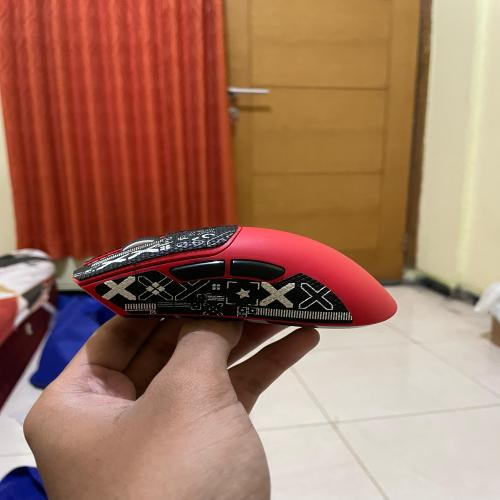Mouse: (63, 208, 411, 349)
